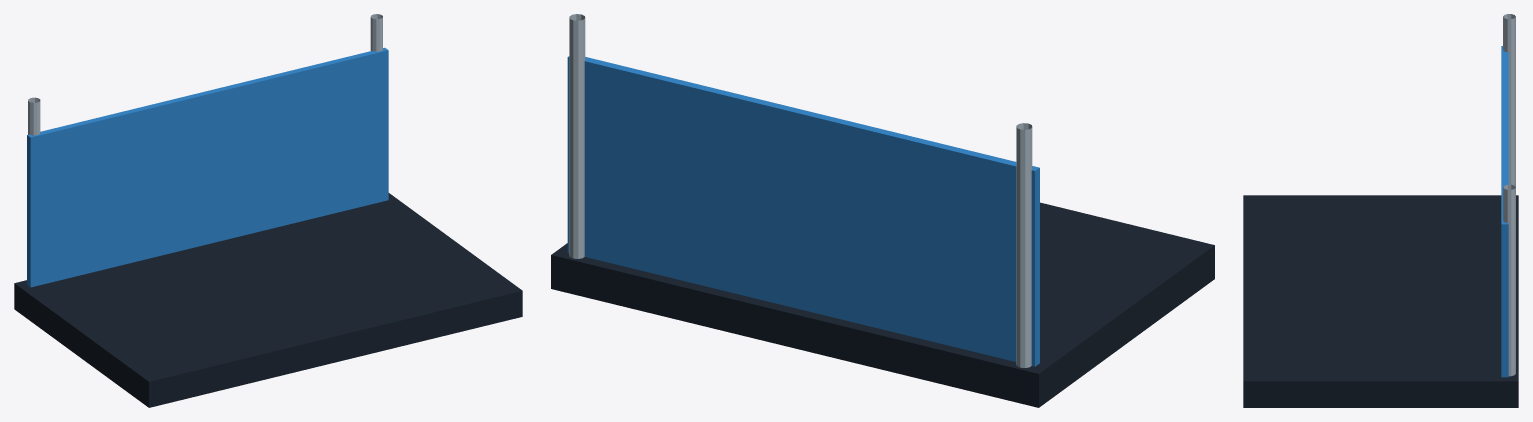
Rendered from 15_L87_HabitatObservationDeck.fbx.
3 renders of one model, left to right at view 1: azimuth 30°, elevation 25°; view 2: azimuth 150°, elevation 25°; view 3: azimuth 270°, elevation 25°, orthographic. The views are drawn at different scales.
Visible parts, largest first — view 1: L87_HabitatObservationDeck; view 2: L87_HabitatObservationDeck; view 3: L87_HabitatObservationDeck.
Part boxes in pixels (<box>): L87_HabitatObservationDeck: <box>14,14,522,407</box>; L87_HabitatObservationDeck: <box>551,14,1214,407</box>; L87_HabitatObservationDeck: <box>1243,14,1518,407</box>.
Bounding box in the file's own units: 480 × 276 × 300.
